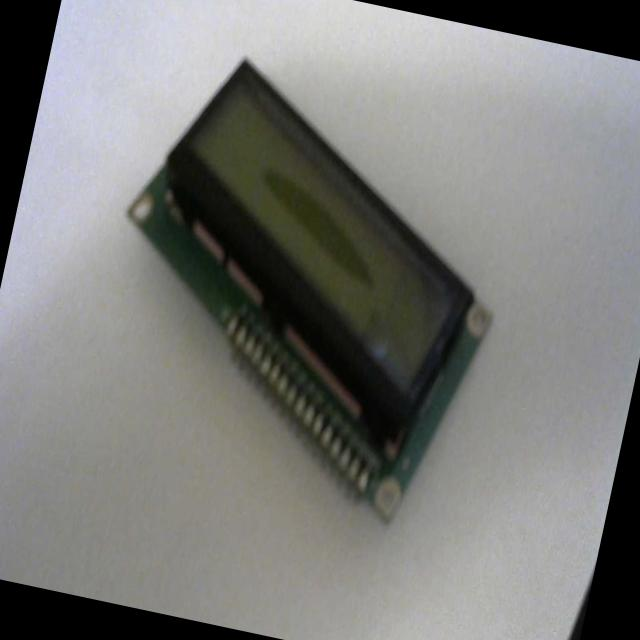lcd: (70, 29, 548, 562)
